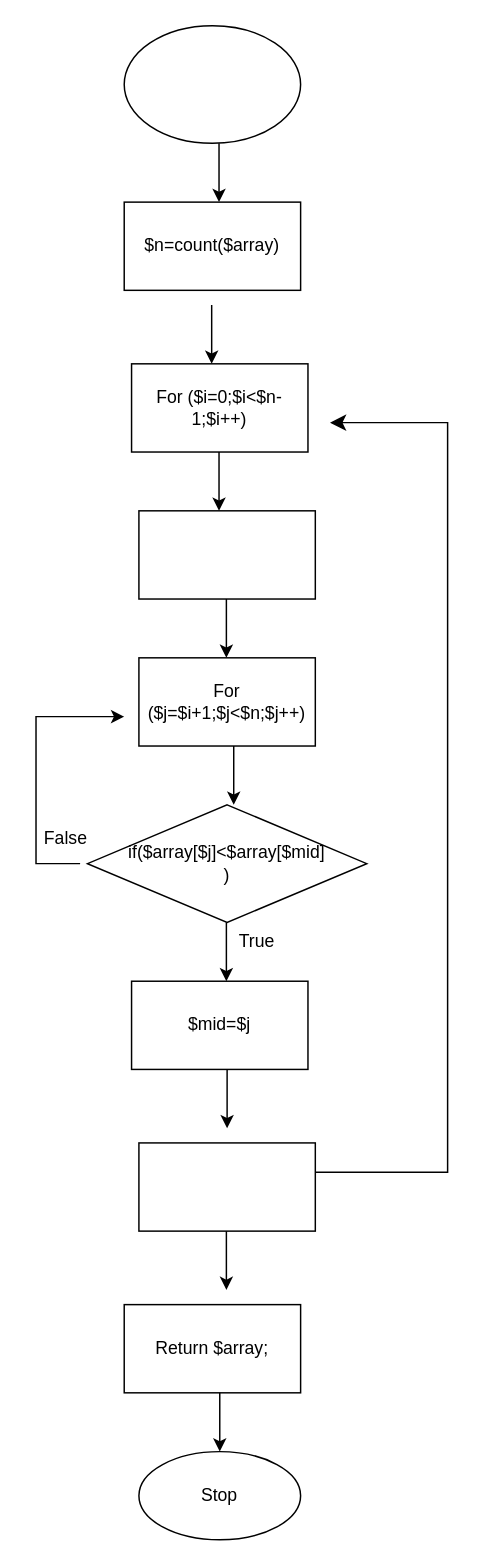
Image size: 488x1566. Some labels were removed from this diagram. The shapes that lost their labels are listed below. From the top down, each one's centre as x and y in pixels, then its label:
At (212,83): "Start".
At (226,554): "$mid=$i".
At (226,1186): "$stemp=$array[$i]; $array[$i]=$mid; $mid=$stemp".
